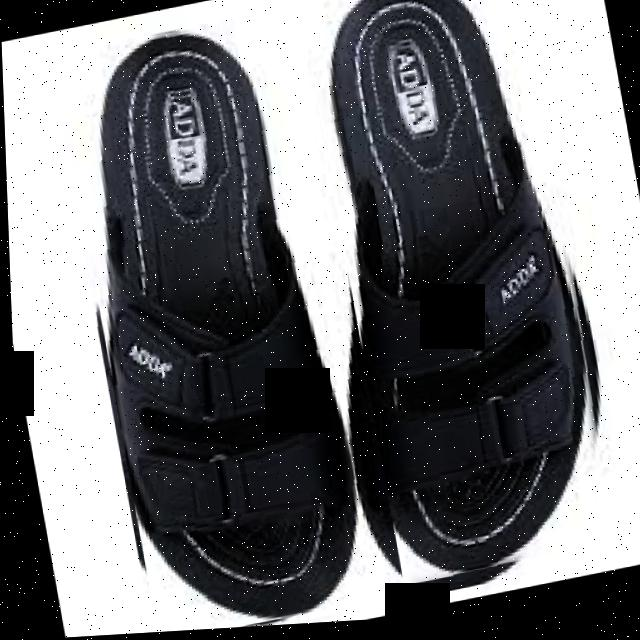shoe: (47, 0, 633, 638), (53, 7, 384, 638), (299, 0, 627, 595)
